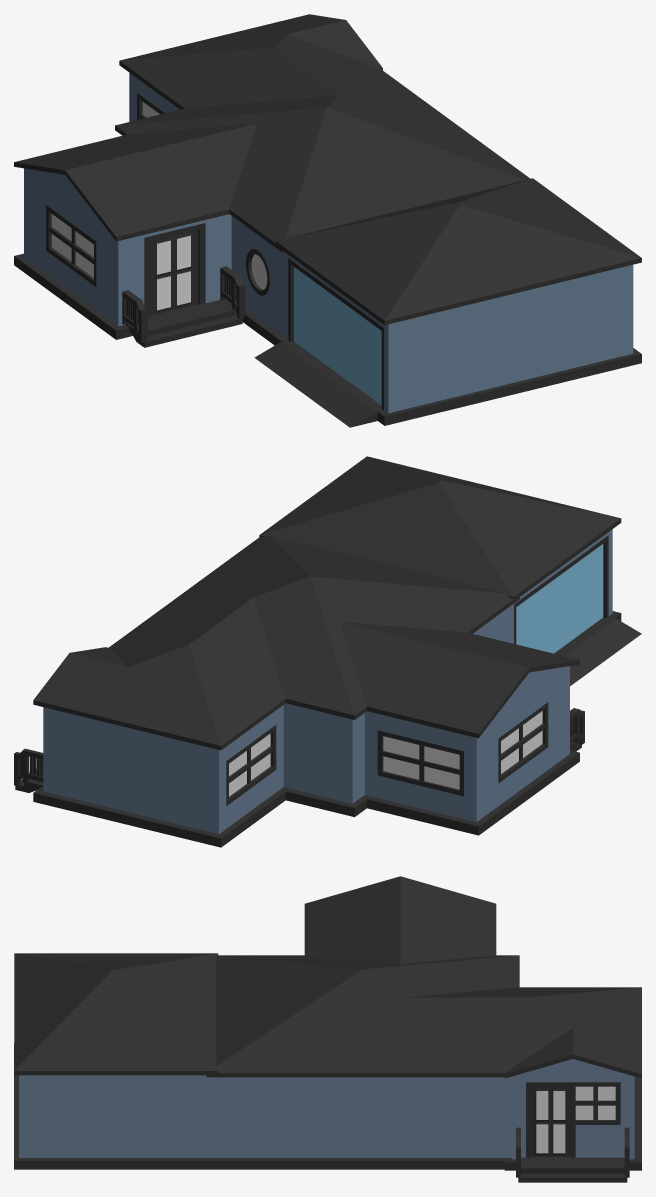
Rendered from House #21.fbx.
3 renders of one model, top to bottom at view 1: azimuth 30°, elevation 25°; view 2: azimuth 150°, elevation 25°; view 3: azimuth 270°, elevation 25°, orthographic. The views are drawn at different scales.
Visible parts, largest first — view 1: building_001; view 2: building_001; view 3: building_001.
Part boxes in pixels (x1,y1,x2,y2): building_001: (14,14,641,427); building_001: (14,456,641,847); building_001: (14,876,641,1182).
Size of the model in its own units: 914 by 330 by 1329.
